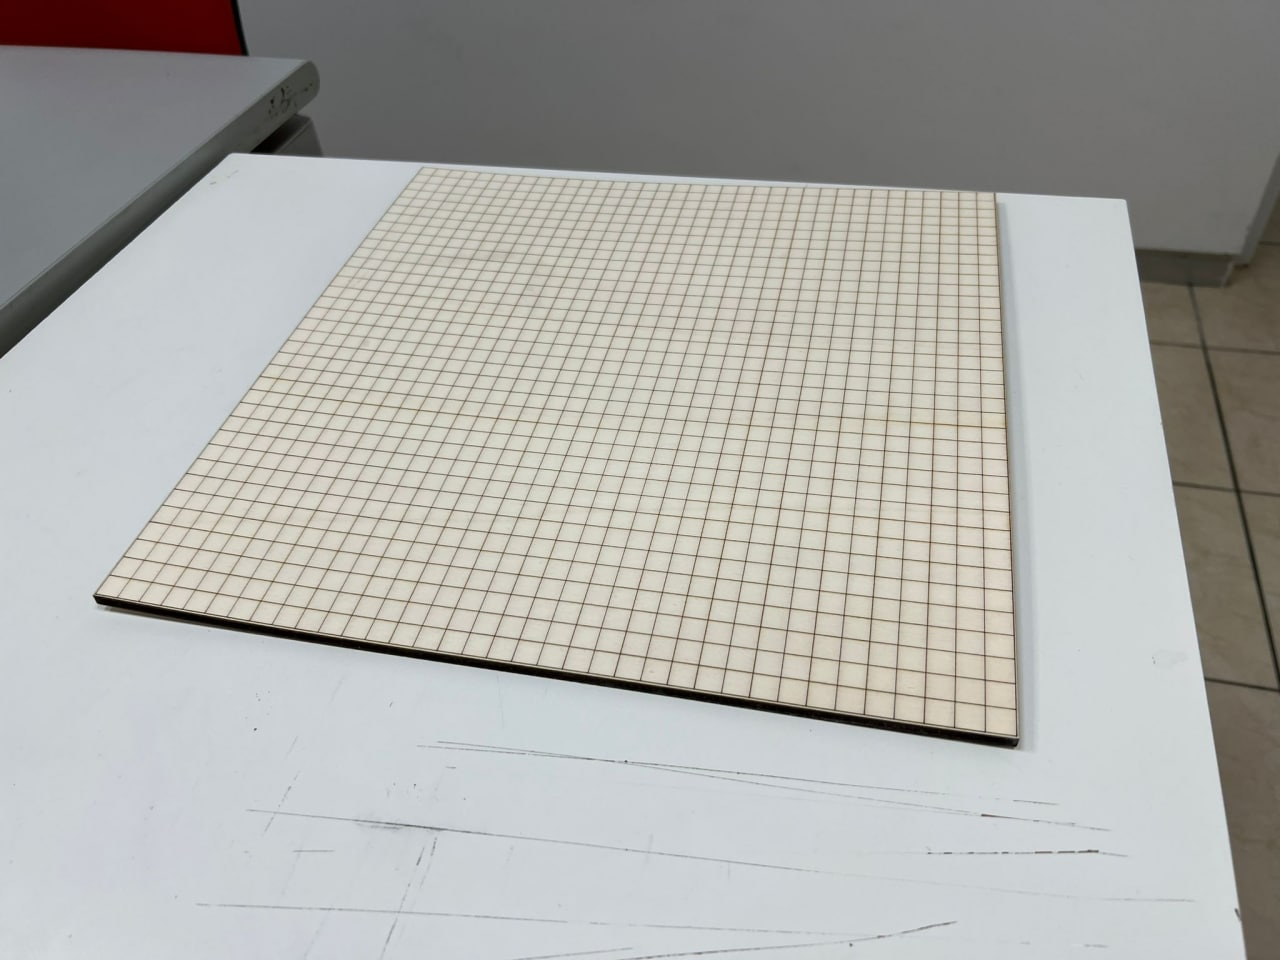grid: (73, 154, 1027, 756)
